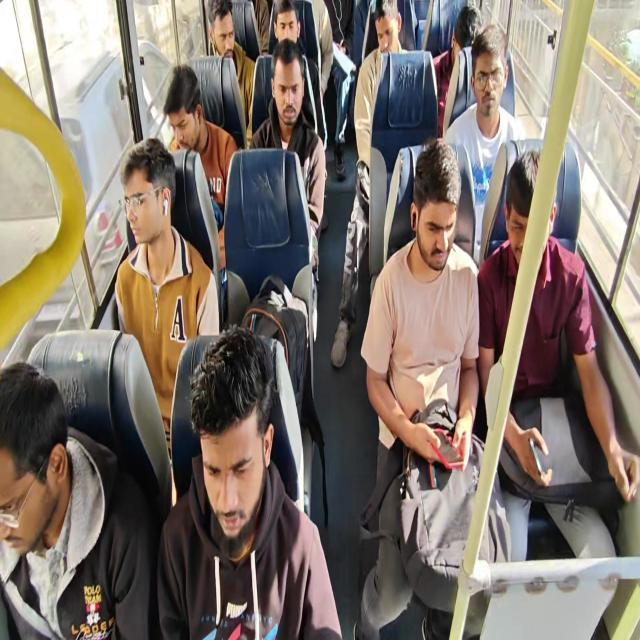person: (195, 339, 276, 549), (0, 361, 69, 564), (403, 142, 469, 285), (111, 143, 184, 261), (506, 148, 564, 271), (255, 44, 318, 132), (471, 26, 516, 122), (166, 59, 212, 147), (197, 0, 242, 59), (364, 0, 402, 56), (442, 0, 484, 49), (272, 0, 306, 51)
